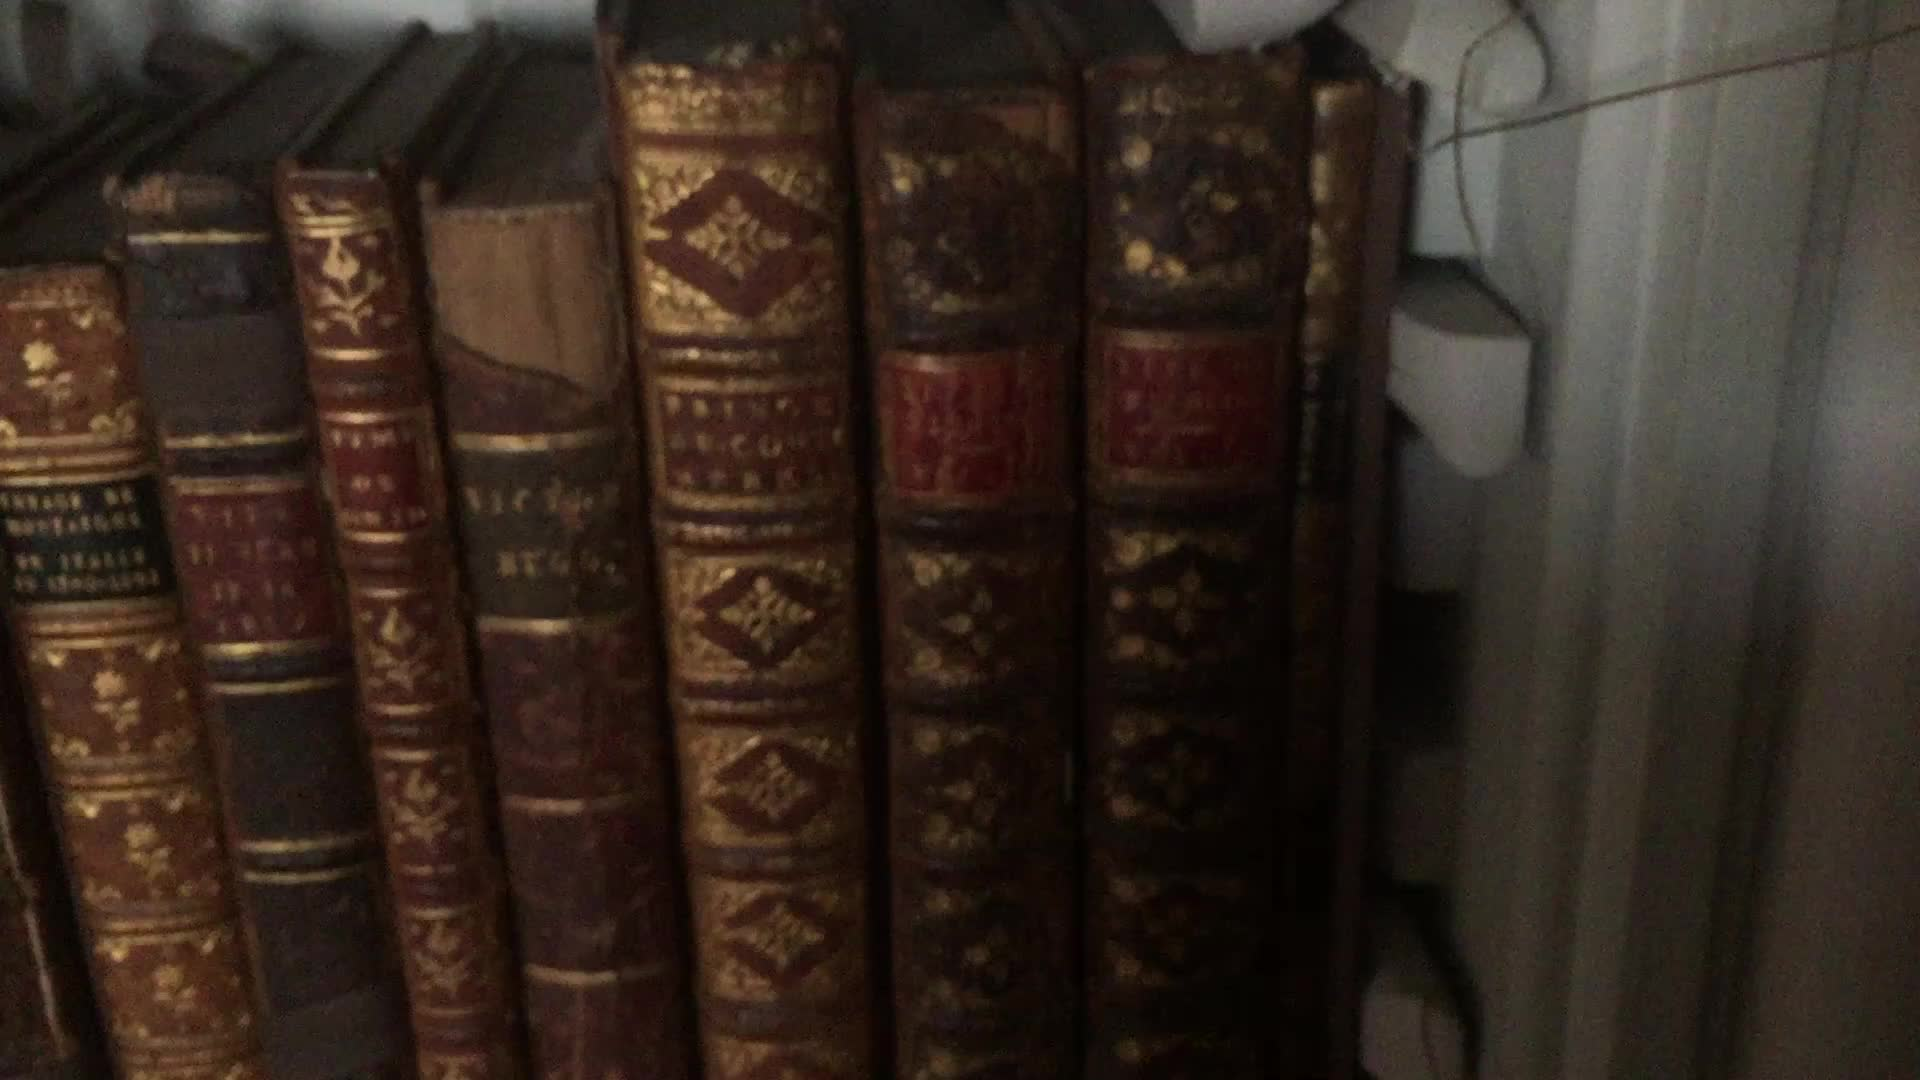Aa6-41: (15, 251, 236, 1075)
Aa6-42: (102, 183, 419, 1063)
Aa6-43: (276, 164, 512, 1075)
Aa6-44: (397, 167, 702, 1054)
Aa6-45: (626, 40, 872, 1080)
Aa6-46-47: (837, 75, 1271, 1080)
Aa6-48: (1299, 69, 1385, 1080)
